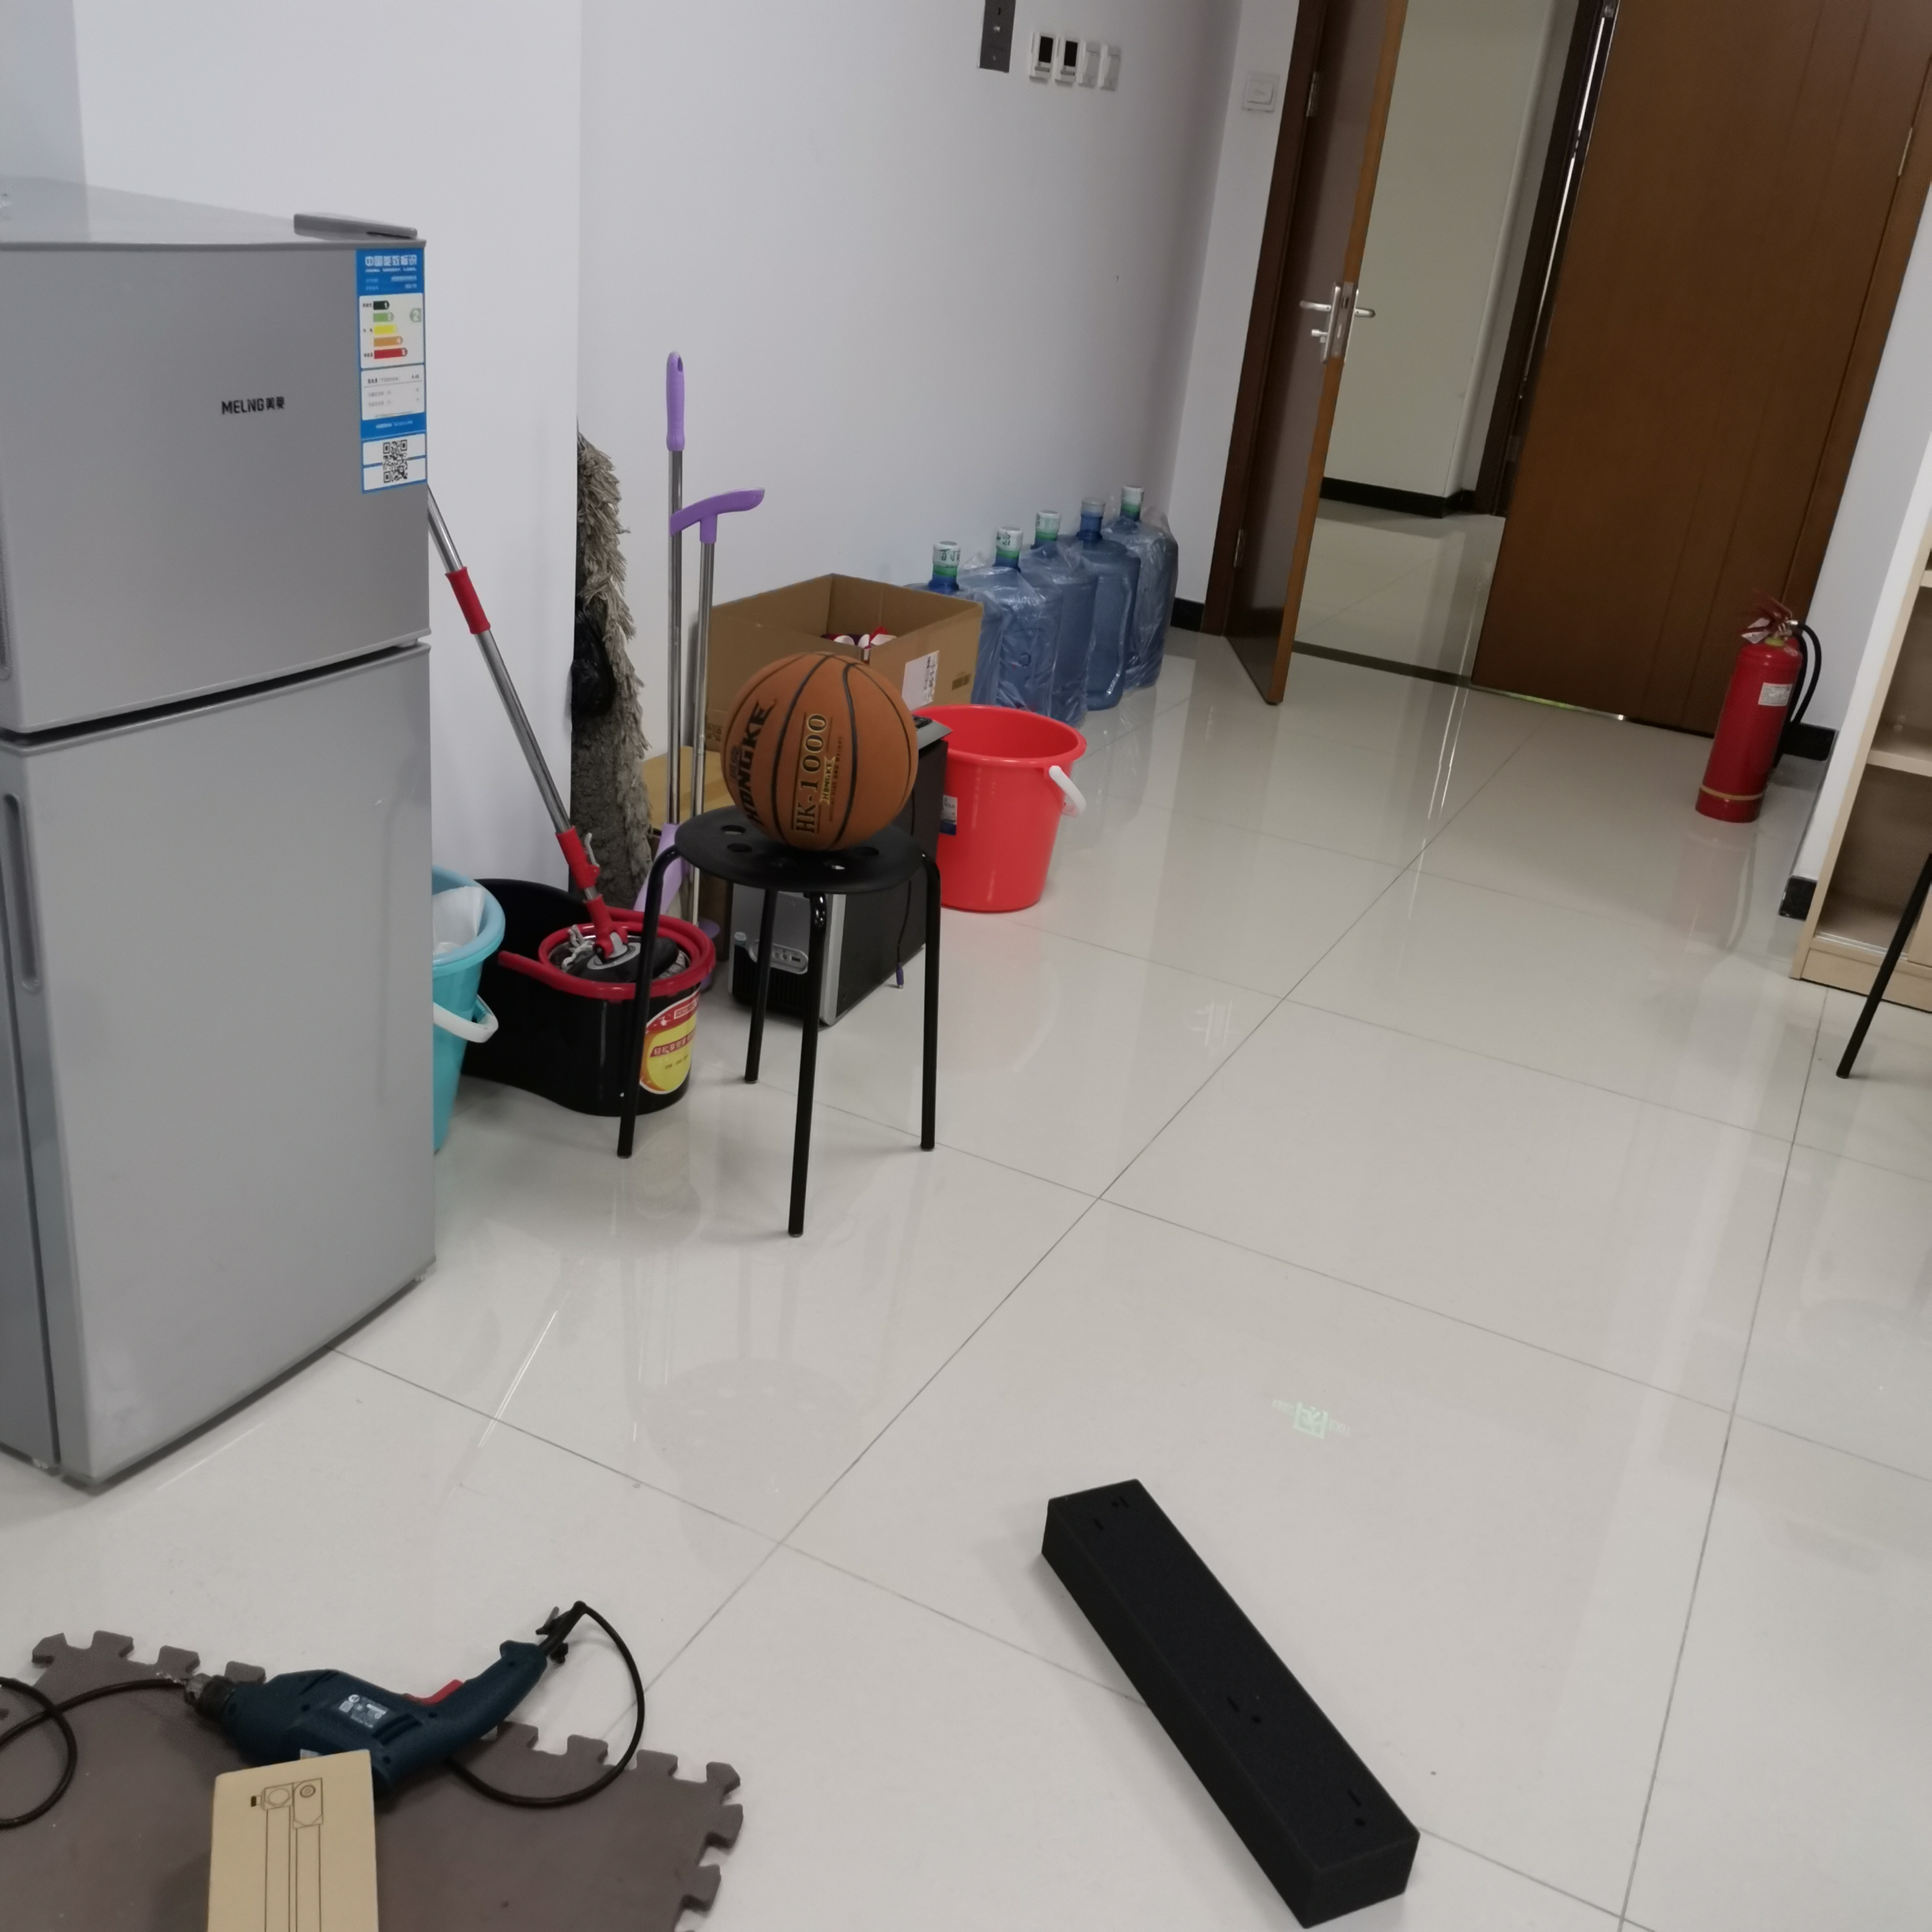basketball: (720, 653, 918, 853)
